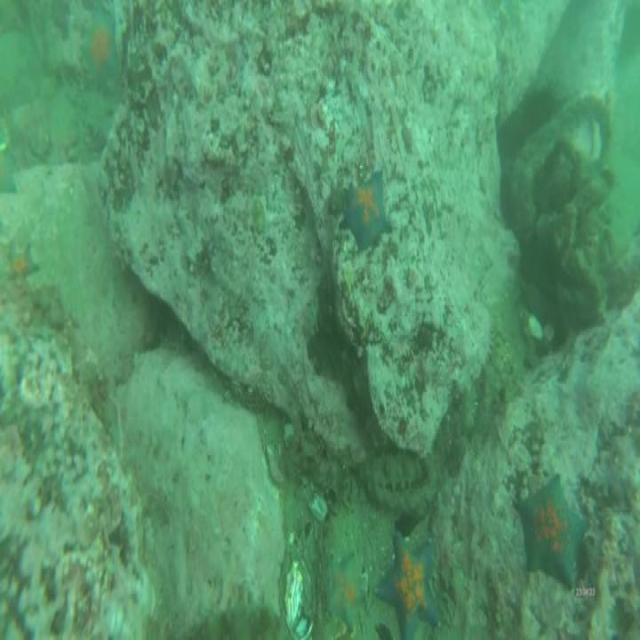holothurian: (357, 452, 423, 487), (364, 484, 436, 512)
starfish: (514, 472, 586, 586), (375, 537, 437, 640), (343, 172, 391, 248), (326, 550, 366, 629), (84, 18, 118, 88), (9, 247, 36, 284)
